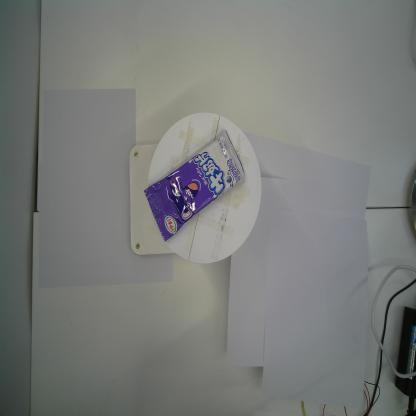Candy: (143, 128, 245, 242)
